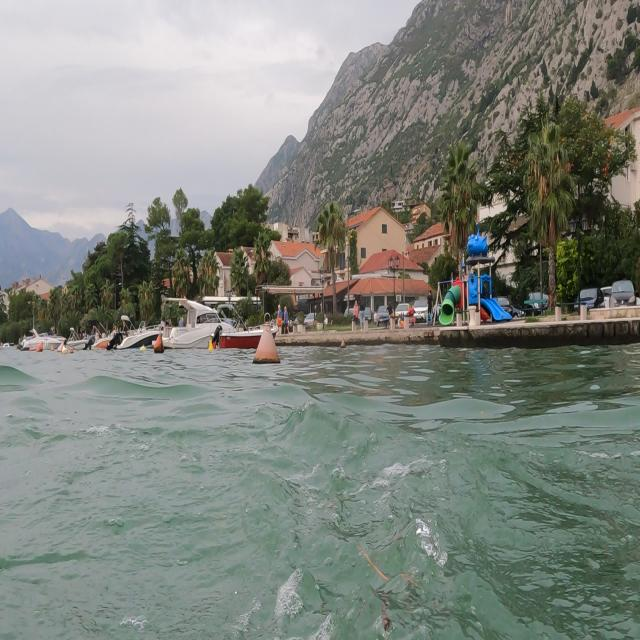boat: (162, 290, 281, 361), (107, 304, 164, 352), (22, 313, 68, 369)
buoy: (252, 304, 286, 380), (152, 329, 168, 361)
